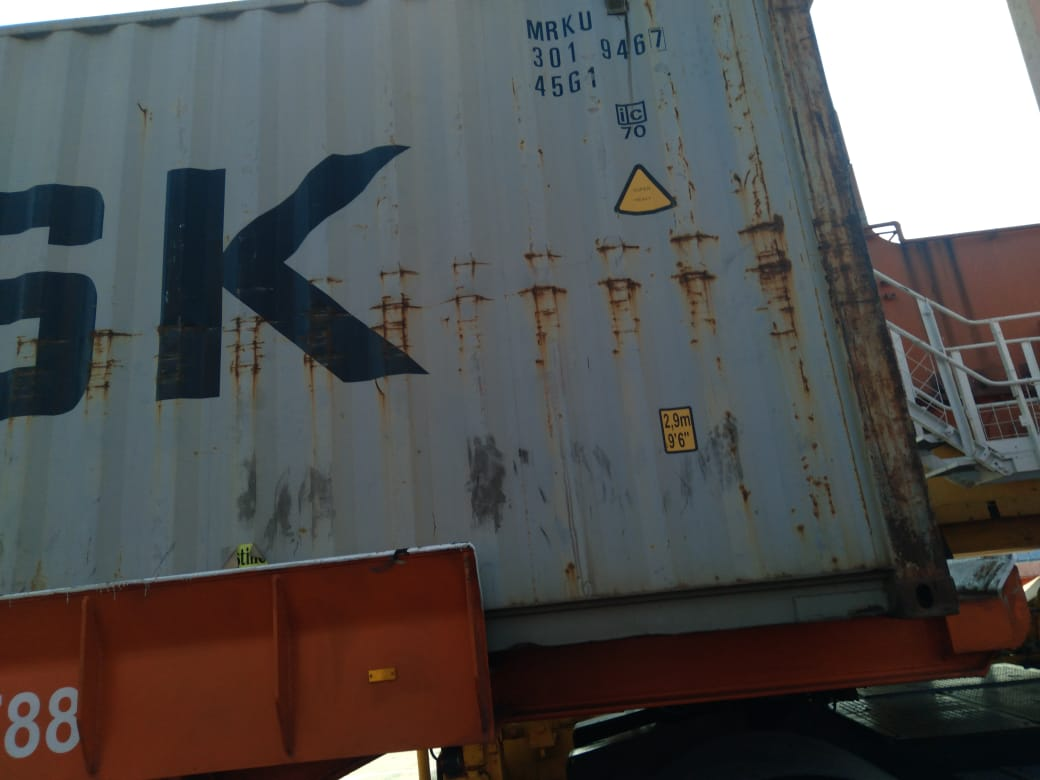dented: (242, 211, 798, 408)
